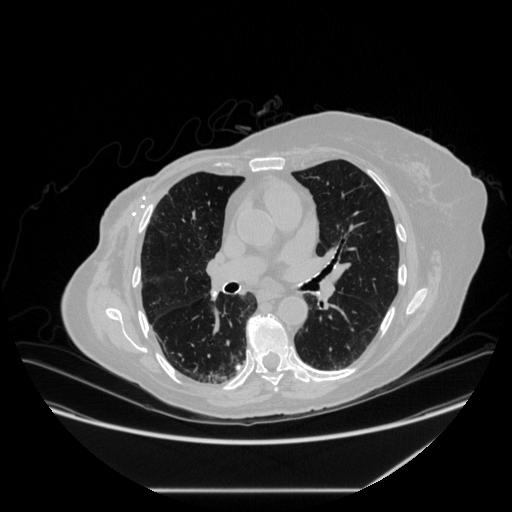nodule: (233, 361, 244, 372)
